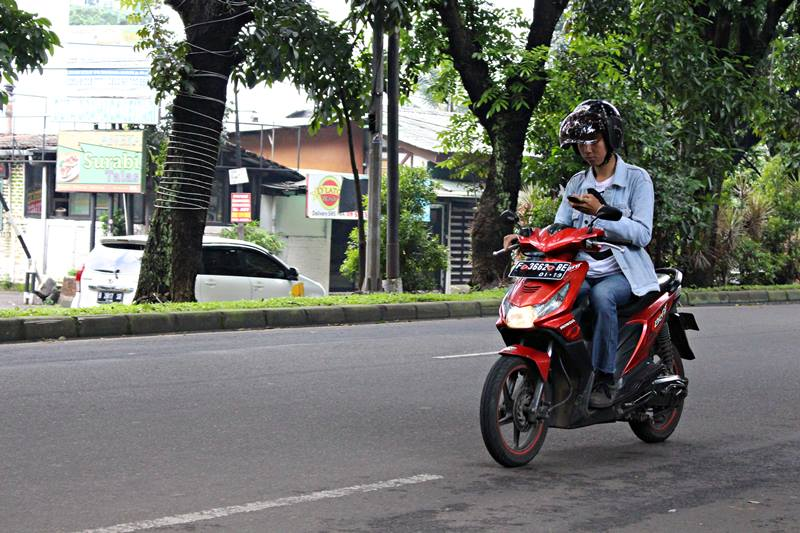dieu khien xe may: (498, 102, 652, 369)
